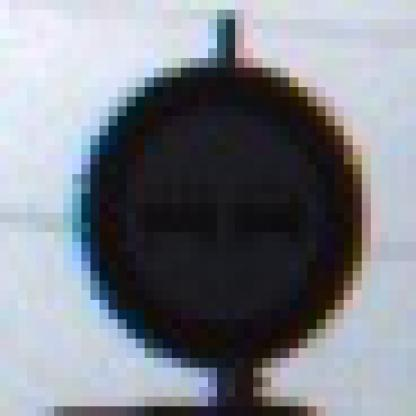No Overtaking: (55, 49, 372, 369)
